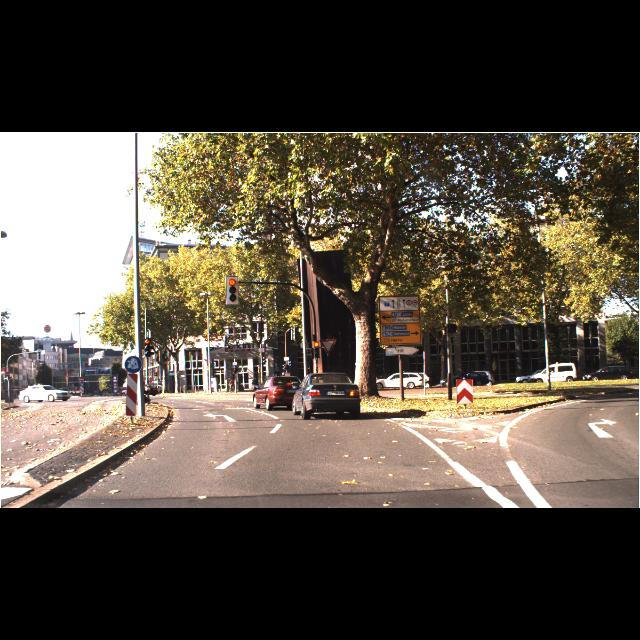mandatory: (125, 356, 142, 374)
other: (320, 339, 336, 355)
